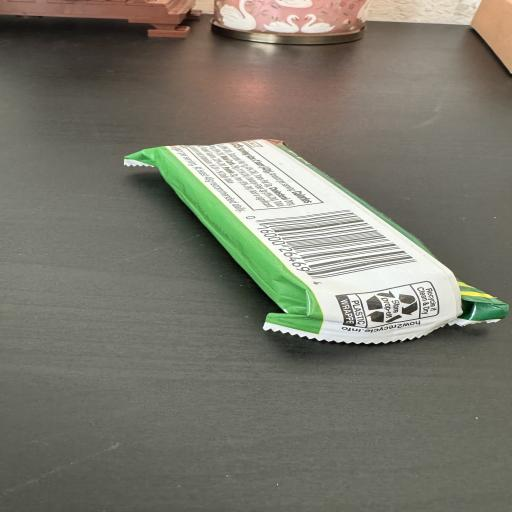granola: (125, 140, 508, 343)
